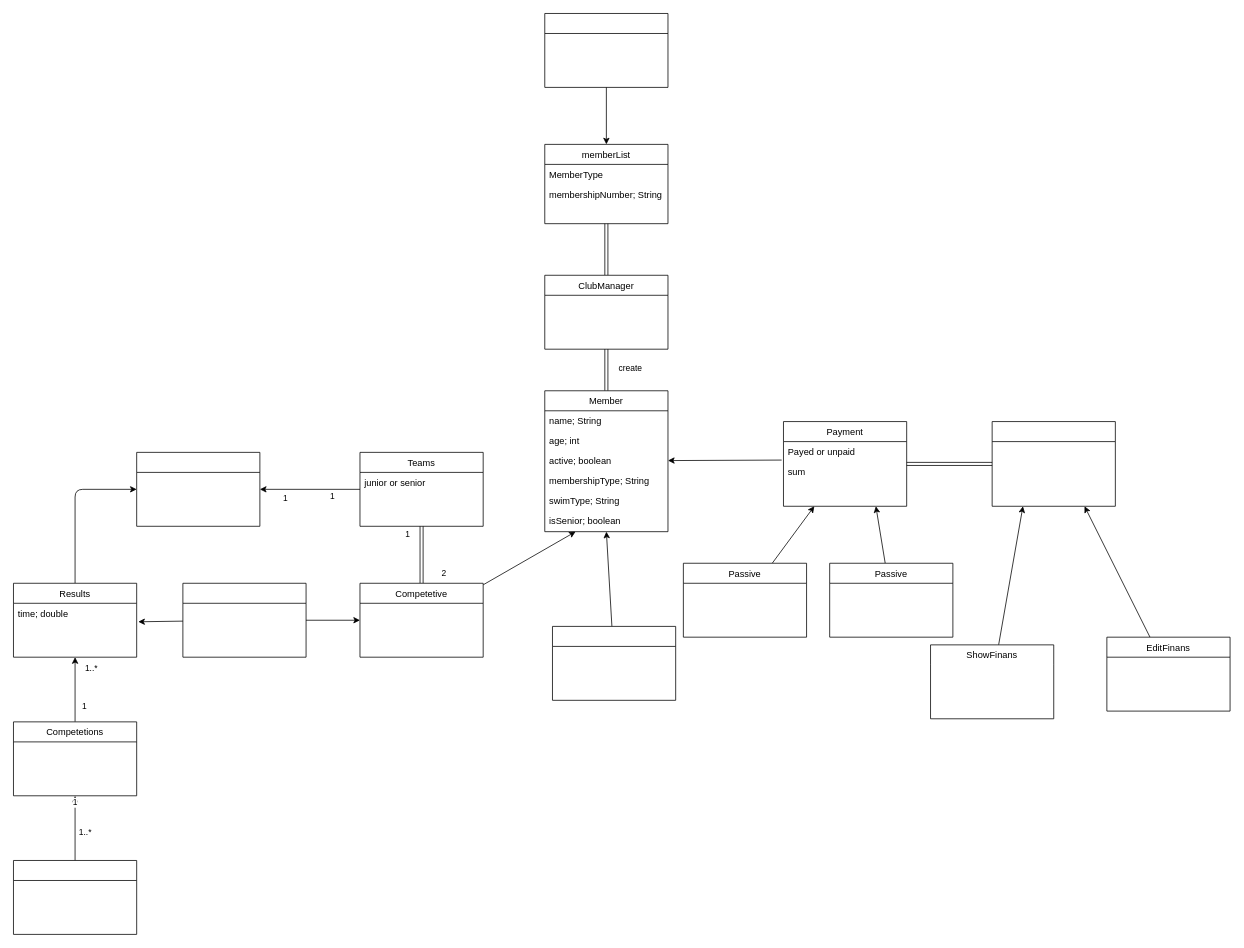
Image size: 1244x948. Some labels were removed from this diagram. The centre of each missing label's shape, as x and y in pixels:
"Cashier" goes at (x=1053, y=463).
"Coach" goes at (x=198, y=489).
"Exerciser" goes at (x=614, y=663).
"members" goes at (x=606, y=50).
"placement" goes at (x=75, y=897).
"swimCategory" goes at (x=244, y=620).
